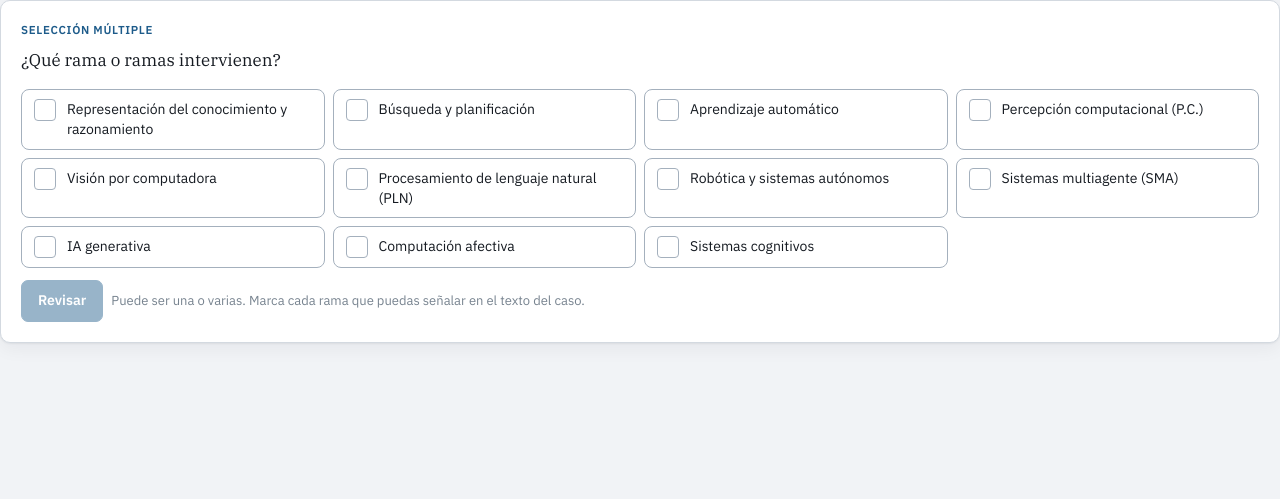
Test: «también se vale» › marcar la correcta y la opcional cuenta como bien
Click the button "Visión por computadora" at {"x": 173, "y": 188}, box top-left (21, 158), bottom-right (324, 218)
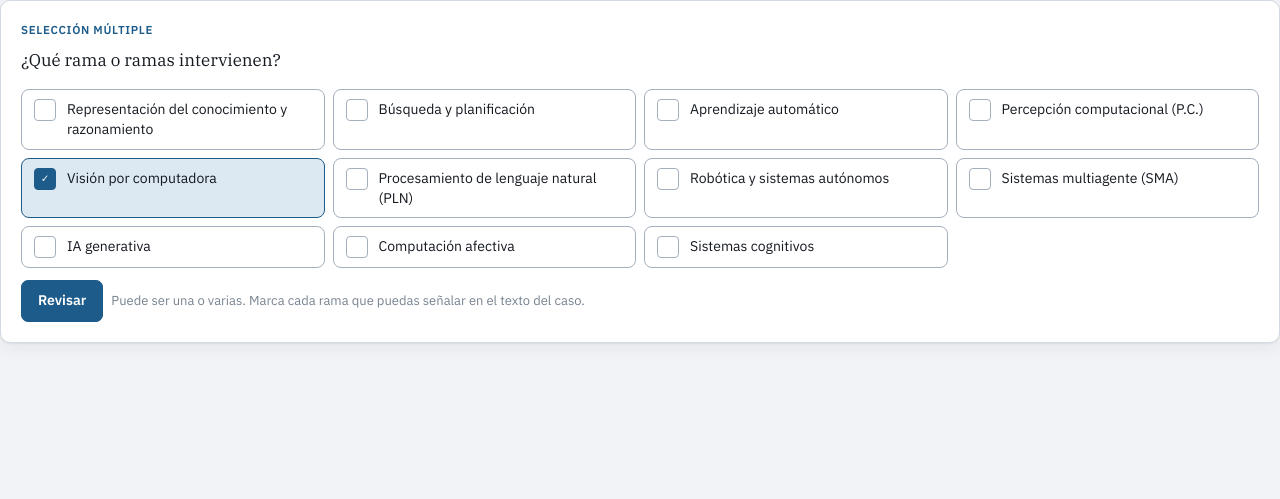
Click the button "Aprendizaje automático" at {"x": 796, "y": 120}, box top-left (644, 89), bottom-right (948, 150)
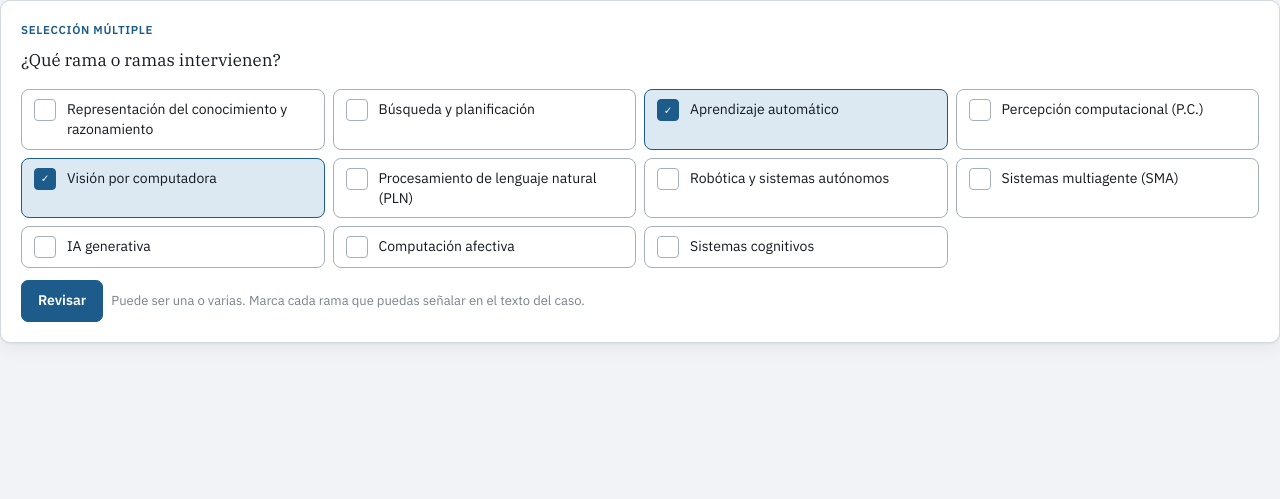
Click the button "Revisar" at {"x": 62, "y": 301}, box top-left (21, 280), bottom-right (103, 322)
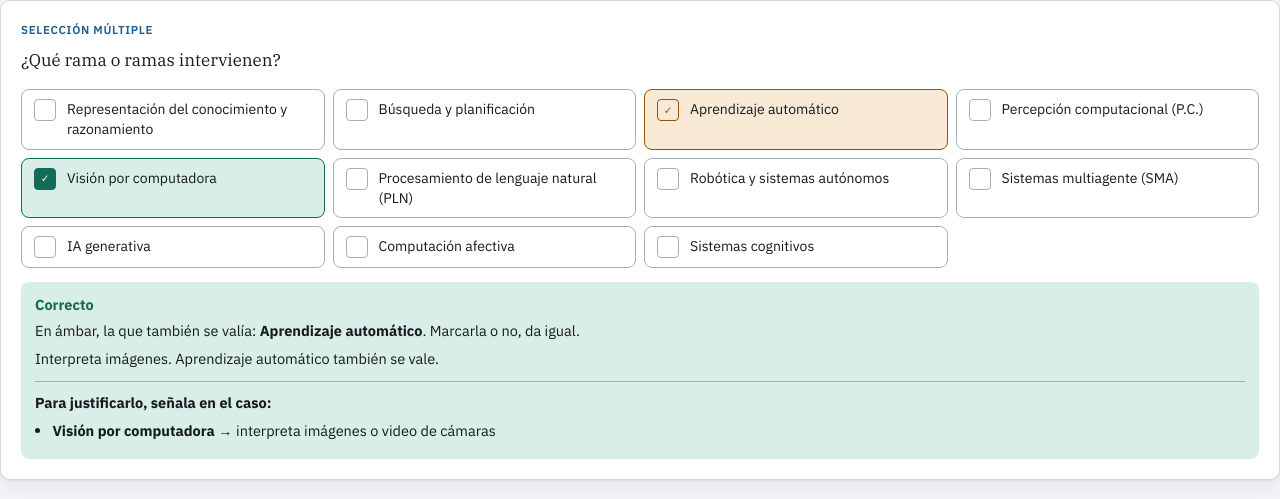
Check: the text "la que también se valía" is shown, box top-left (103, 321), bottom-right (252, 340)
